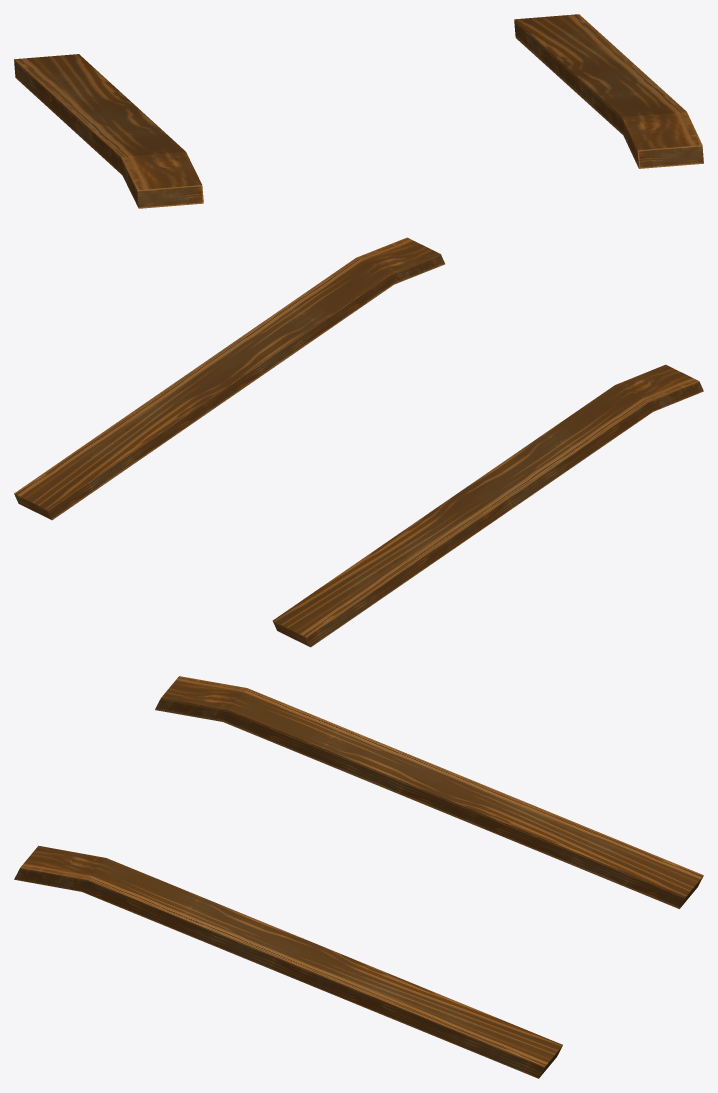
3 views of the same model, one above another, from view 1: azimuth 30°, elevation 25°; view 2: azimuth 150°, elevation 25°; view 3: azimuth 270°, elevation 25° (orthographic). The views are drawn at different scales.
Visible parts, largest first — view 1: Cube.1961; view 2: Cube.1961; view 3: Cube.1961.
Boxes of the visible parts, <box> form: Cube.1961: <box>14,14,703,208</box>; Cube.1961: <box>14,237,703,647</box>; Cube.1961: <box>14,676,703,1078</box>.
Bounding box in the file's own units: 391 × 90.57 × 422.
1 material, 1 textured.
